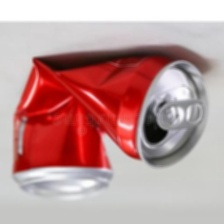can: (3, 44, 210, 209)
